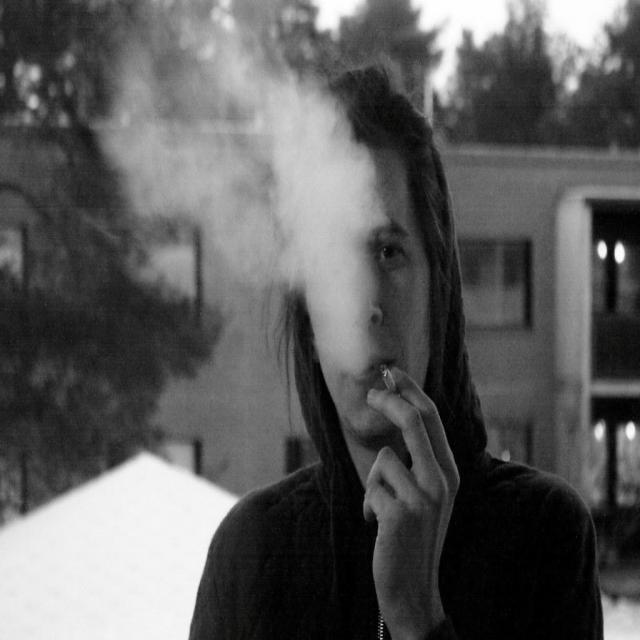Дым: (128, 6, 370, 374)
Сигарета: (383, 365, 395, 390)
Тело: (203, 62, 584, 640)
